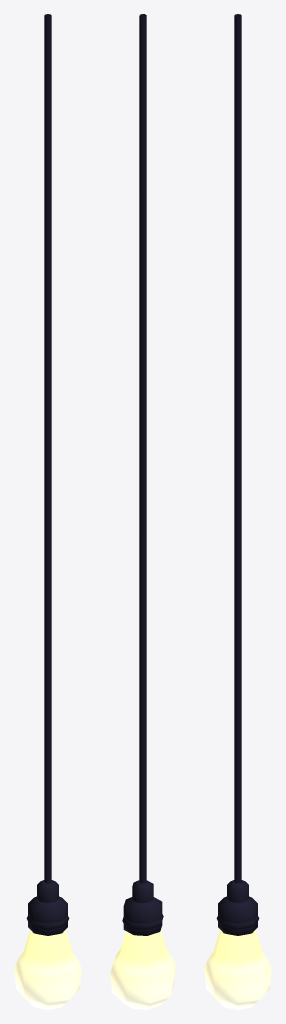
The model's file is HangingBulb.glb.
3 renders of one model, left to right at view 1: azimuth 90°, elevation 25°; view 2: azimuth 150°, elevation 25°; view 3: azimuth 270°, elevation 25°, orthographic.
Visible parts, largest first — view 1: BulbAndCord; view 2: BulbAndCord; view 3: BulbAndCord.
Part boxes in pixels (x1,y1,x2,y2): BulbAndCord: [14, 14, 81, 1009]; BulbAndCord: [110, 14, 175, 1009]; BulbAndCord: [204, 14, 271, 1009].
Size of the model in its own units: 2.78 by 45.02 by 2.78.
